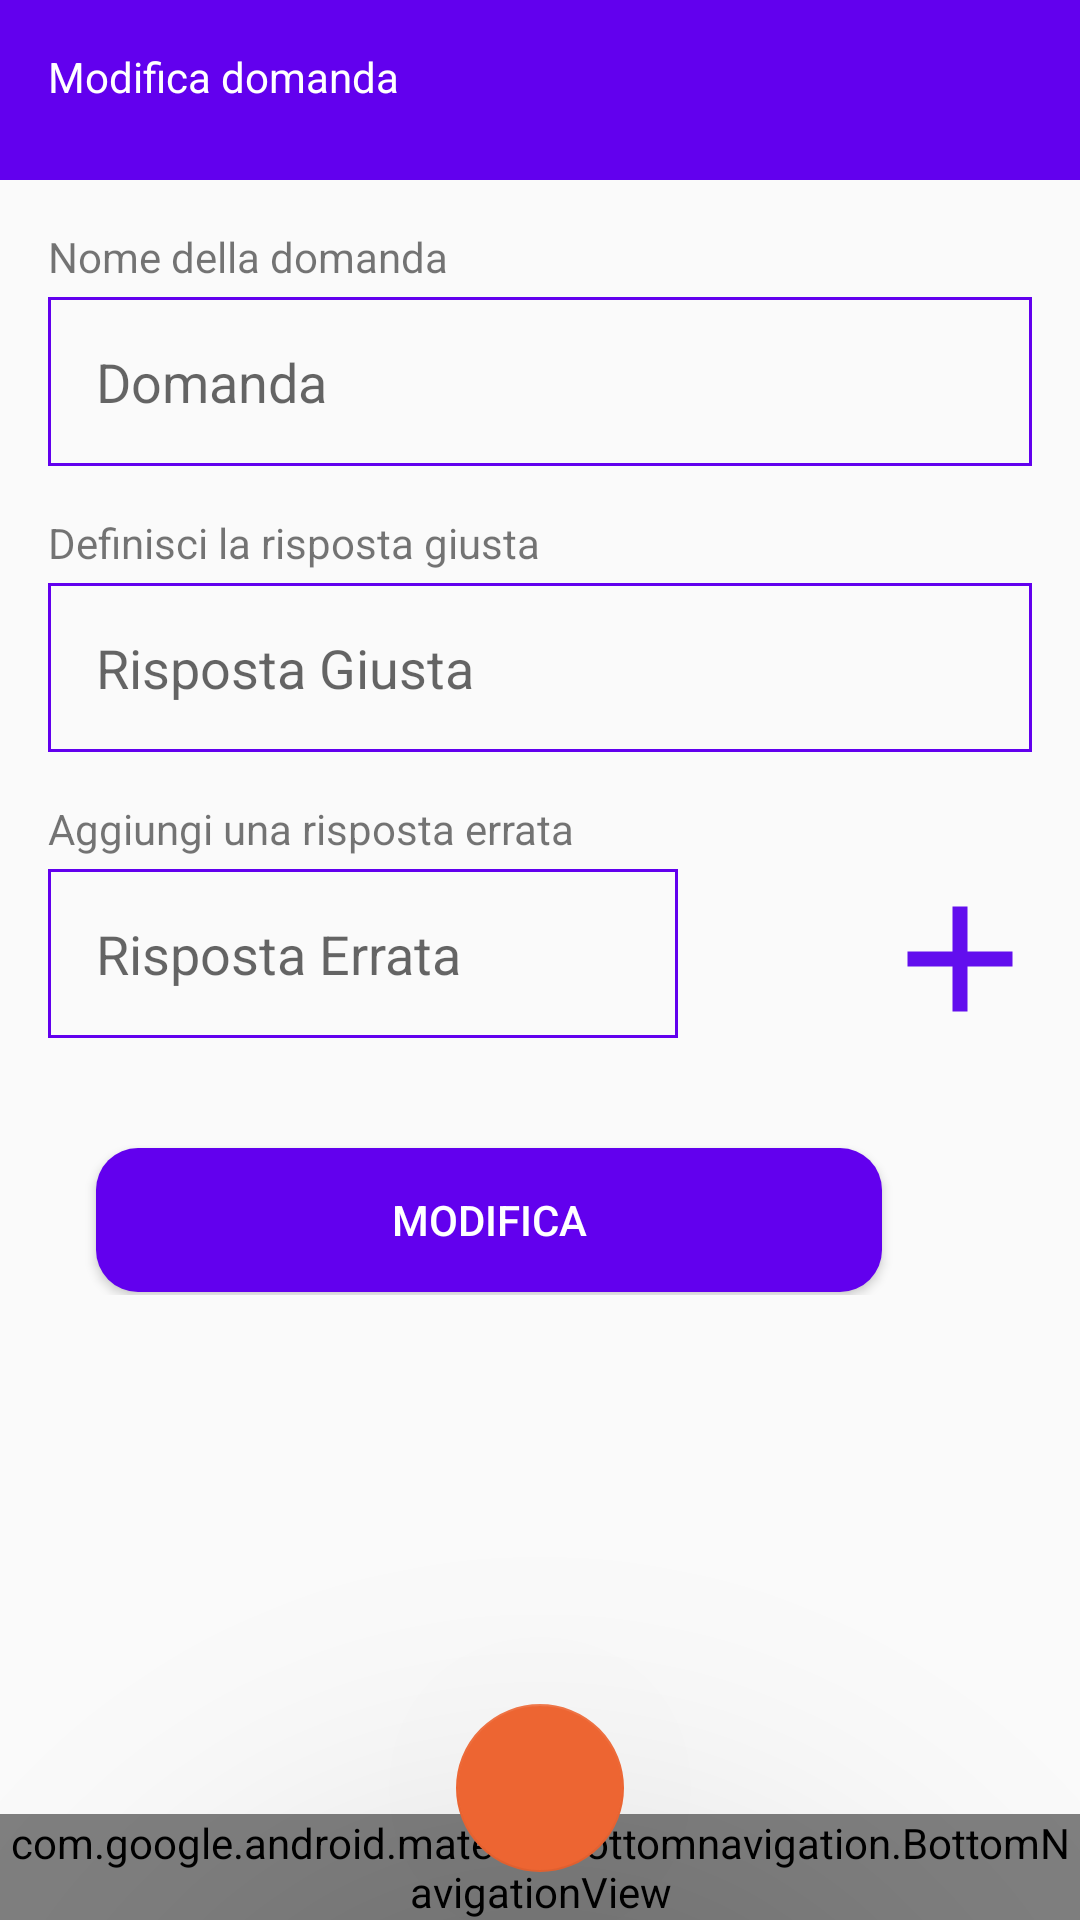

Icons on this 1080x1920 Android screen, each with its box as (x1, y1, x2, y2):
add: (907, 906, 1013, 1012)
